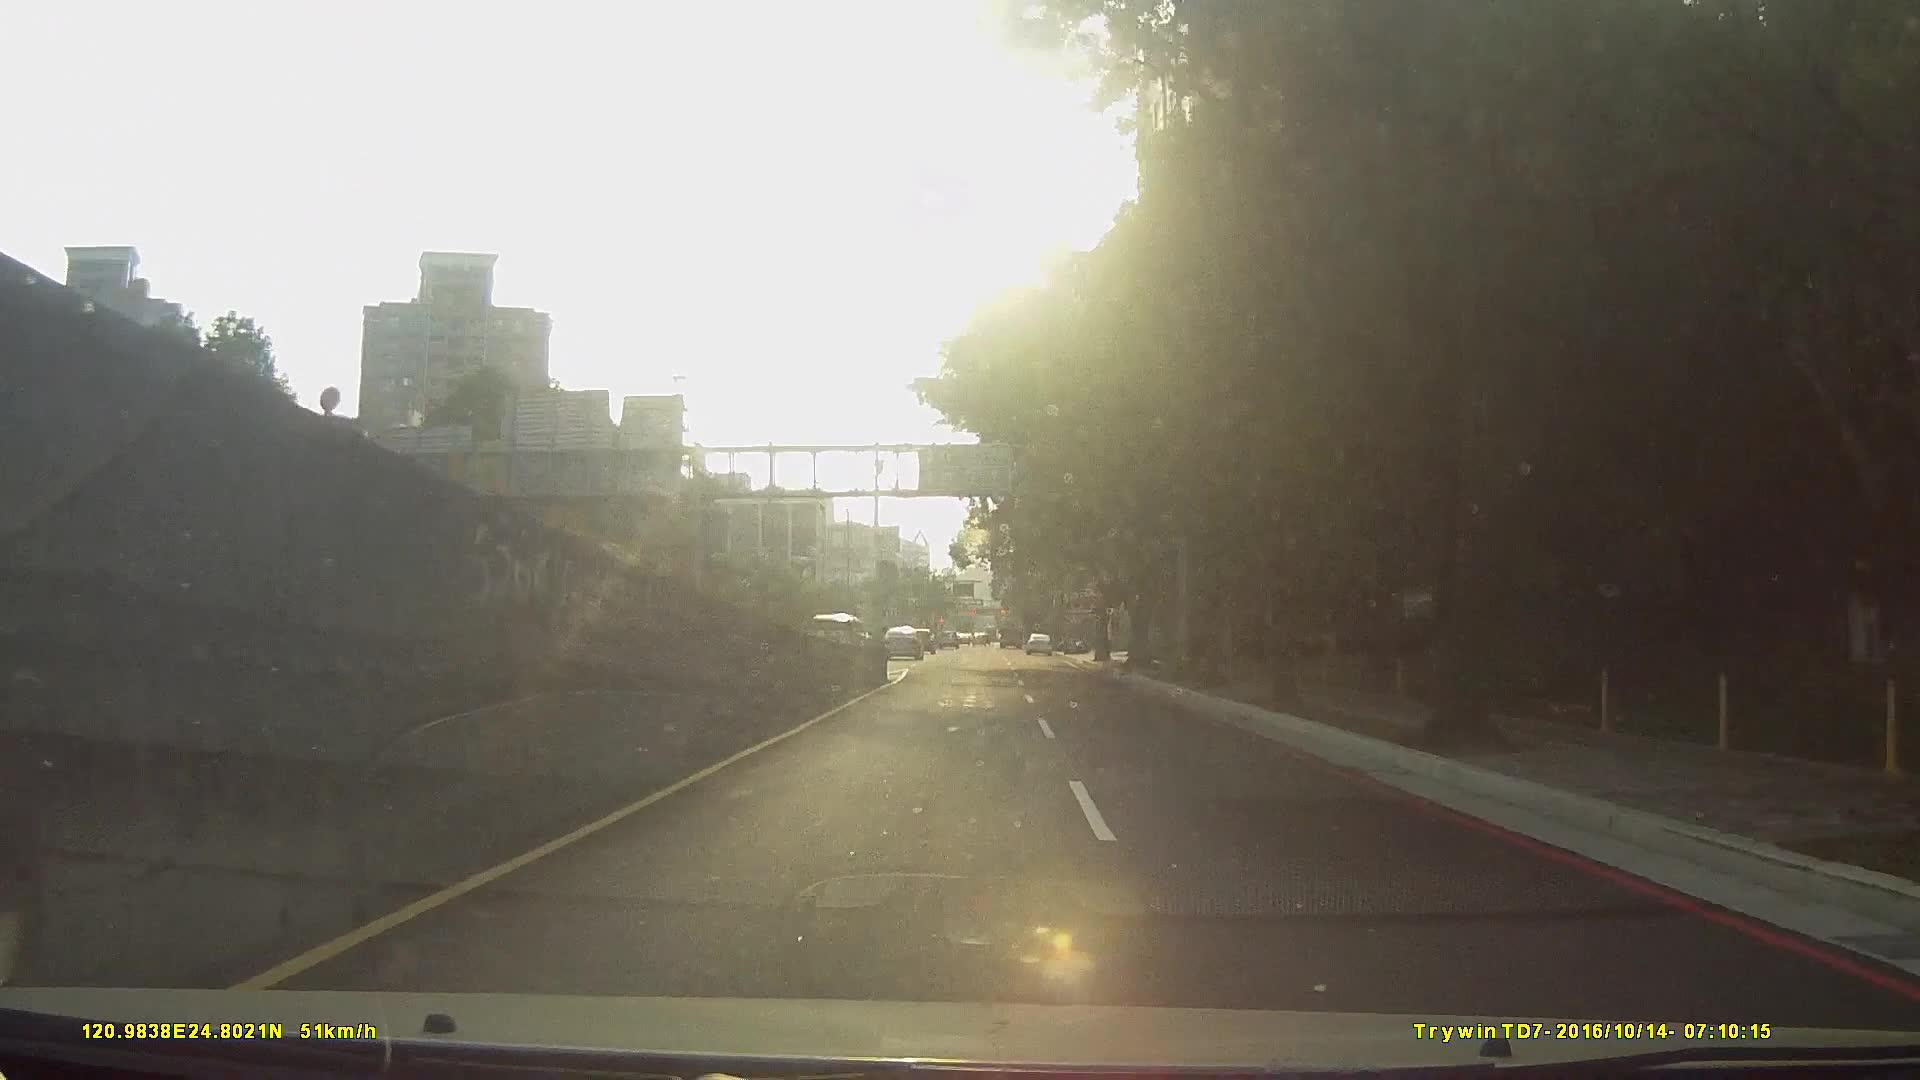vehicle: (878, 625, 922, 661), (998, 613, 1025, 649), (1023, 632, 1054, 655)
